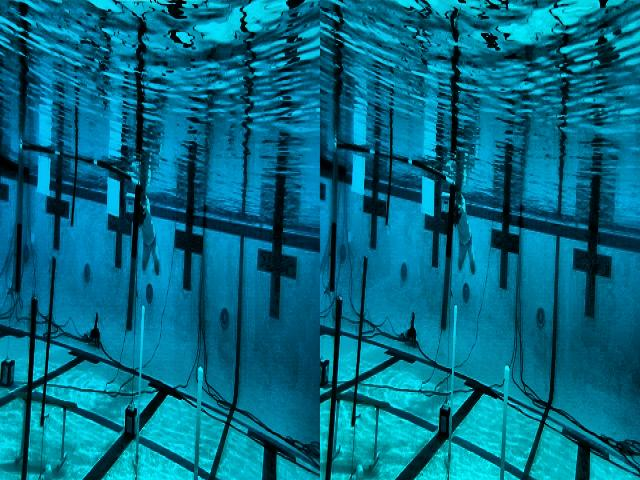gate: (13, 149, 142, 332), (331, 145, 454, 331)
path_marker: (325, 384, 393, 476), (14, 383, 77, 480)
